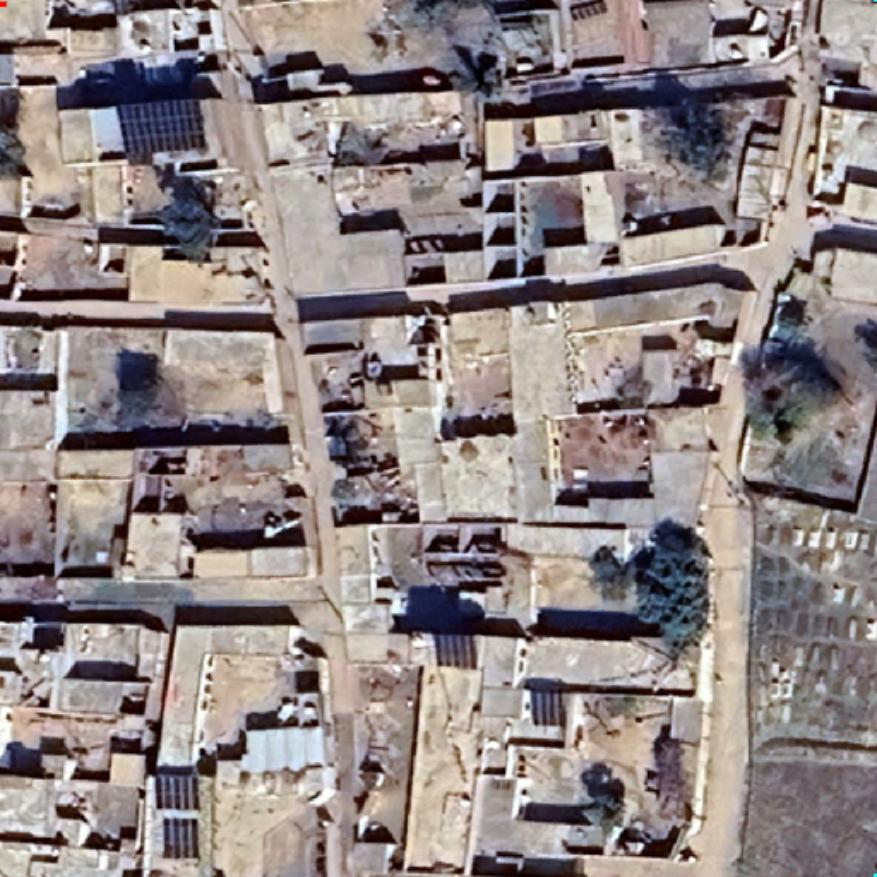Solarpanel: (109, 92, 211, 162), (150, 768, 204, 814), (157, 812, 203, 864), (431, 628, 483, 672), (524, 684, 570, 732)
